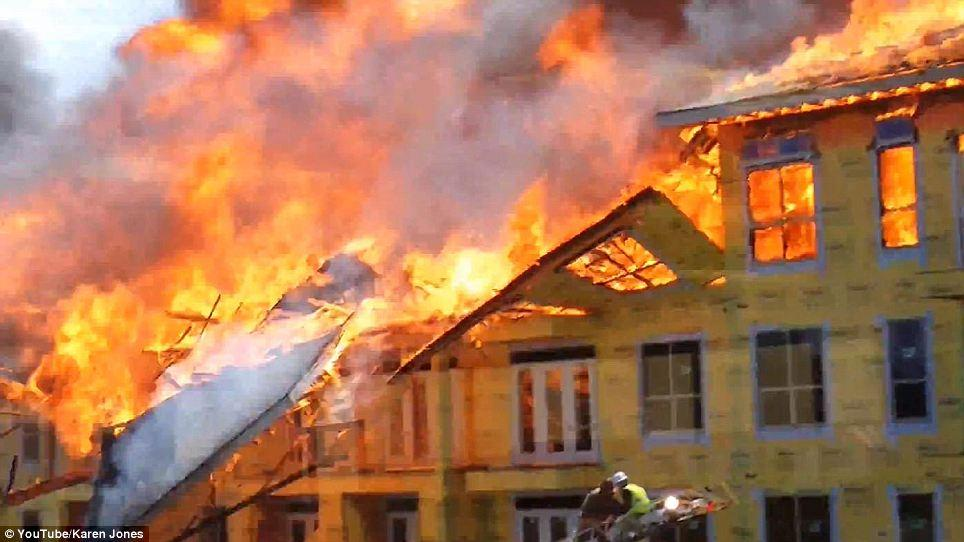Fire: (2, 2, 959, 320), (2, 321, 415, 514)
